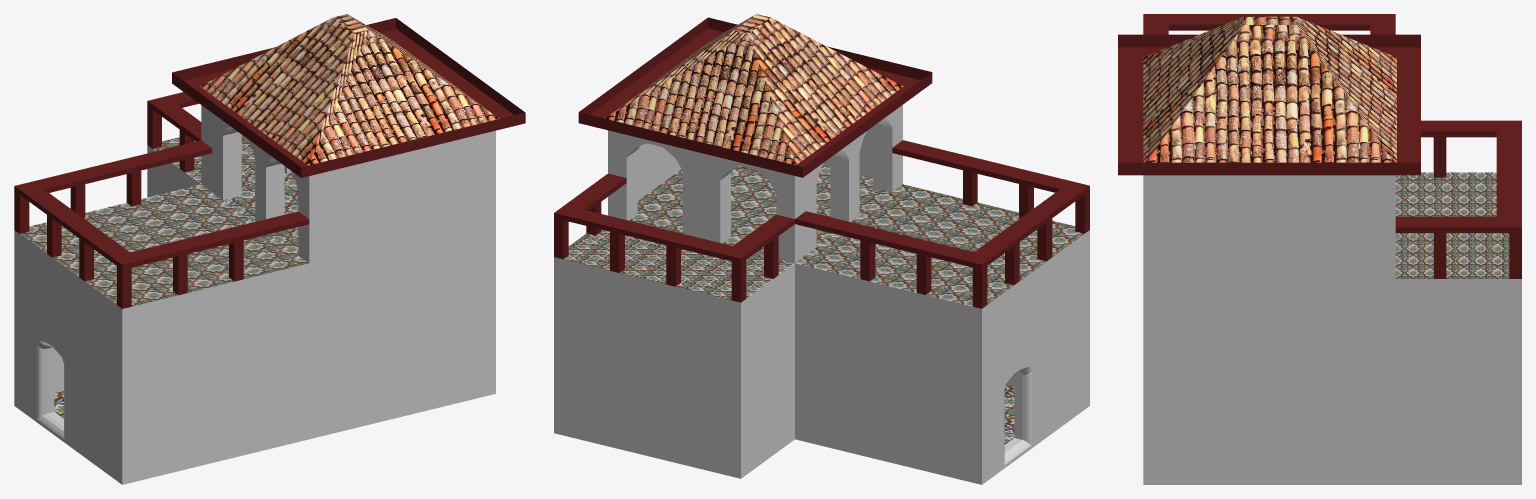
Rendered from FBX_RealisticModels_House2.fbx.
The picture shows the model from 3 angles, left to right: view 1: azimuth 30°, elevation 25°; view 2: azimuth 150°, elevation 25°; view 3: azimuth 270°, elevation 25°; orthographic projection. The views are drawn at different scales.
Visible parts, largest first — view 1: pCube139, pCube166, pCube140, pCube165, pCube167, pCube146, pCube168, pCube141, pCube145, pCube144, pCube147, pCube152 (+6 smaller); view 2: pCube139, pCube166, pCube165, pCube167, pCube140, pCube168, pCube147, pCube148, pCube149, pCube145, pCube144, pCube141 (+11 smaller); view 3: pCube139, pCube166, pCube140, pCube165, pCube168, pCube167, pCube163, pCube151, pCube164.
Boxes of the visible parts, x1=… form: pCube139: x1=14, y1=135, x2=495, y2=484; pCube166: x1=200, y1=14, x2=499, y2=165; pCube140: x1=223, y1=130, x2=495, y2=263; pCube165: x1=172, y1=18, x2=525, y2=177; pCube167: x1=14, y1=140, x2=309, y2=269; pCube146: x1=255, y1=148, x2=309, y2=262; pCube168: x1=147, y1=92, x2=201, y2=141; pCube141: x1=223, y1=126, x2=241, y2=199; pCube145: x1=212, y1=113, x2=261, y2=212; pCube144: x1=266, y1=158, x2=284, y2=219; pCube147: x1=201, y1=105, x2=211, y2=191; pCube152: x1=117, y1=266, x2=131, y2=308; pCube139: x1=554, y1=184, x2=1089, y2=484; pCube166: x1=604, y1=14, x2=903, y2=165; pCube165: x1=578, y1=17, x2=932, y2=177; pCube167: x1=795, y1=140, x2=1089, y2=269; pCube140: x1=629, y1=166, x2=891, y2=255; pCube168: x1=554, y1=173, x2=794, y2=263; pCube147: x1=701, y1=153, x2=805, y2=262; pCube148: x1=608, y1=130, x2=701, y2=238; pCube149: x1=637, y1=126, x2=873, y2=200; pCube145: x1=805, y1=136, x2=859, y2=254; pCube144: x1=873, y1=118, x2=892, y2=191; pCube141: x1=830, y1=150, x2=848, y2=221; pCube139: x1=1143, y1=172, x2=1521, y2=484; pCube166: x1=1143, y1=16, x2=1396, y2=162; pCube140: x1=1143, y1=175, x2=1395, y2=278; pCube165: x1=1118, y1=34, x2=1420, y2=175; pCube168: x1=1395, y1=120, x2=1521, y2=233; pCube167: x1=1143, y1=14, x2=1395, y2=34; pCube163: x1=1433, y1=233, x2=1446, y2=278; pCube151: x1=1509, y1=233, x2=1521, y2=278; pCube164: x1=1433, y1=137, x2=1446, y2=177.
Bounding box in the file's own units: 2.1 × 1.8 × 1.6.
